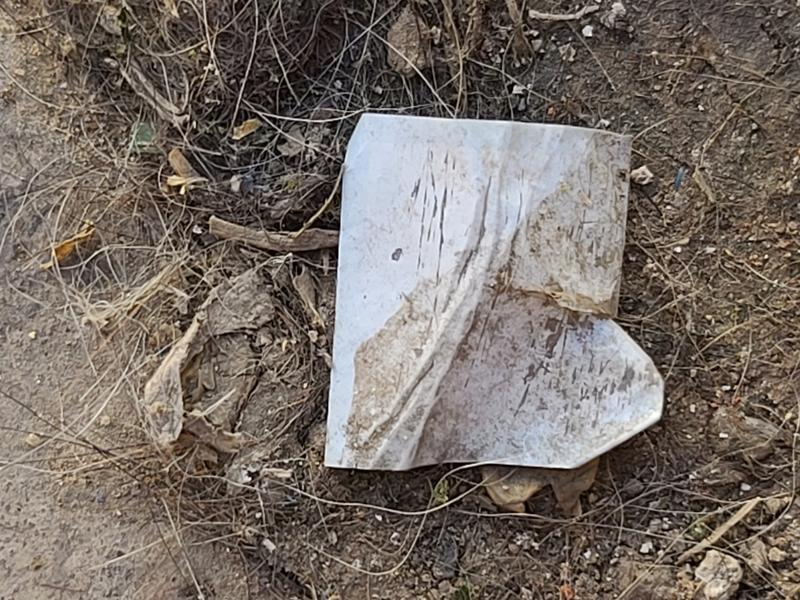papel: (323, 113, 665, 474)
